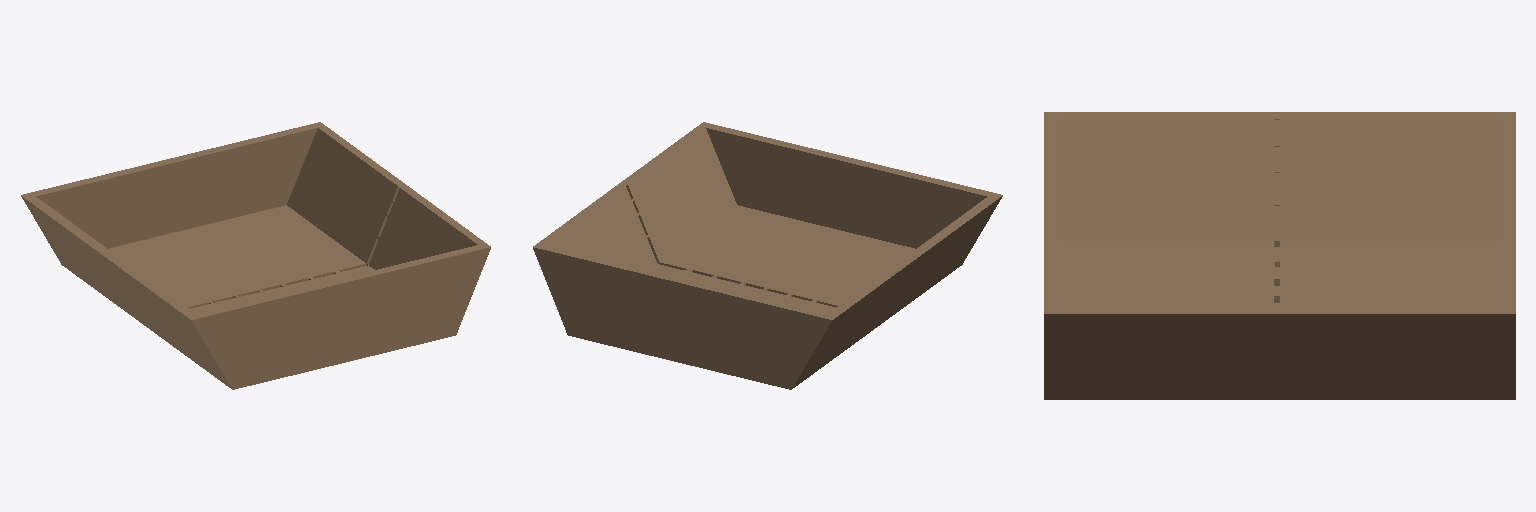
robot.urdf — basket:
<?xml version="1.0"?>
<robot name="basket">

  <material name="brown">
    <color rgba="0.60 0.50 0.40 1"/>
  </material>

  <link name="base_link">
    <visual>
      <geometry>
        <mesh filename="package://soomac_description/meshes/burger_box/files/BOTTOM_SMALL_BURGERBOX_STL.stl" scale="0.003 0.003 0.003"/>
      </geometry>
      <material name="brown"/>
    </visual>
    <collision>
      <geometry>
        <mesh filename="package://soomac_description/meshes/burger_box/files/BOTTOM_SMALL_BURGERBOX_STL.stl" scale="0.003 0.003 0.003"/>
      </geometry>
    </collision>
    <inertial>
      <mass value="1.0" />
      <origin xyz="0 0 0" rpy="0 0 0" />
      <inertia ixx="0.01" ixy="0" ixz="0" iyy="0.01" iyz="0" izz="0.01" />
    </inertial>
  </link>
</robot>

--- What the picture shows (computed from the rendered views, not written in the file) ---
Views: 3 orthographic renders of the robot side by side, from view 1: azimuth 30°, elevation 25°; view 2: azimuth 150°, elevation 25°; view 3: azimuth 270°, elevation 25°.
Robot: basket — 1 links, 0 joints (none); root link base_link; default pose: every joint at zero.
Links seen in each view (by area): view 1: base_link; view 2: base_link; view 3: base_link.
Boxes of the visible links, x1=… form: base_link: x1=21, y1=122, x2=490, y2=389; base_link: x1=533, y1=122, x2=1002, y2=389; base_link: x1=1044, y1=112, x2=1515, y2=399.
Bounding box of the posed robot: 0.133 × 0.1313 × 0.0338 m (x, y, z).
1 mesh visuals loaded from 1 distinct referenced files (1 ASCII STL).